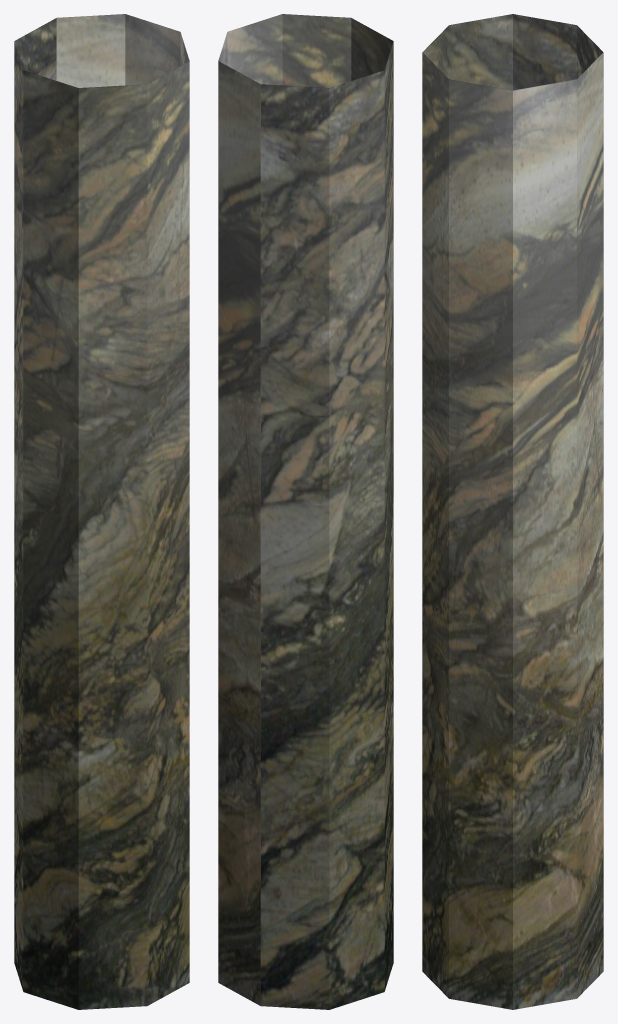
File: stone_pillar.fbx
3 views of the same model, side by side, from view 1: azimuth 30°, elevation 25°; view 2: azimuth 150°, elevation 25°; view 3: azimuth 270°, elevation 25° (orthographic).
Visible parts, largest first — view 1: Cylinder; view 2: Cylinder; view 3: Cylinder.
Part boxes in pixels (<box>): Cylinder: <box>14,14,189,1009</box>; Cylinder: <box>218,14,393,1009</box>; Cylinder: <box>422,14,603,1009</box>.
Bounding box in the file's own units: 387 × 2169 × 387.
1 material, 1 textured.
